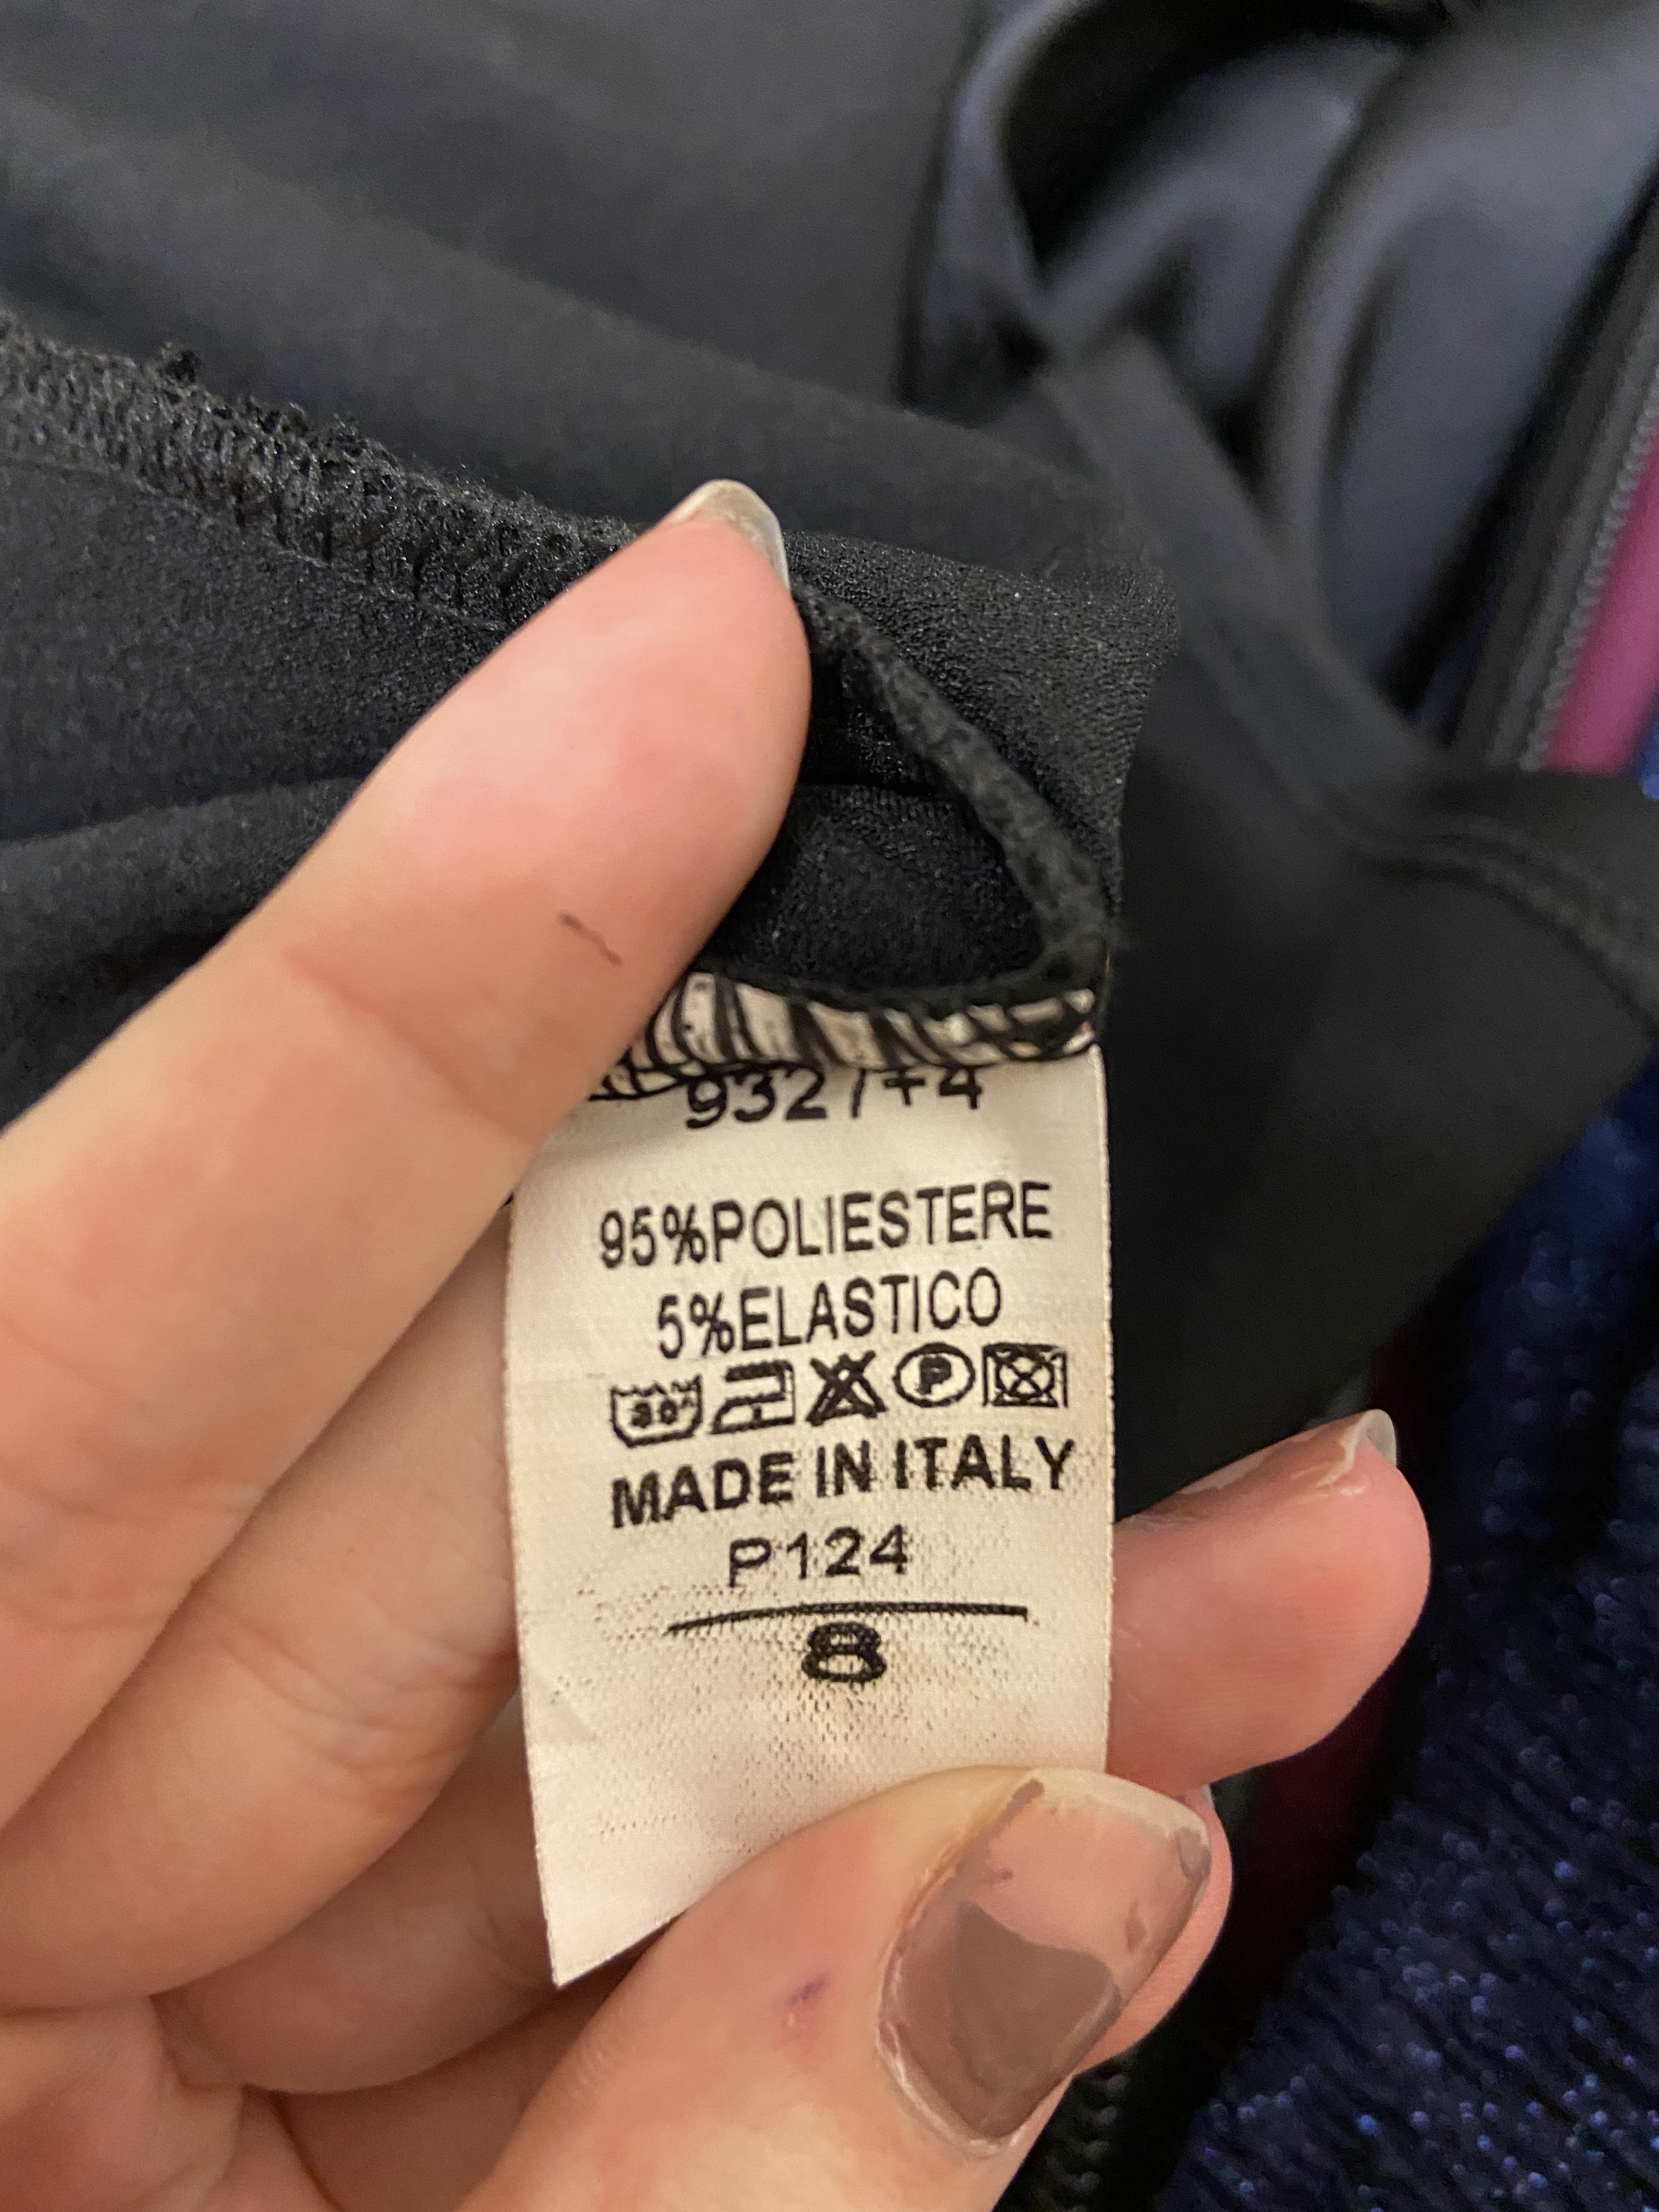do not bleach: (791, 1353, 906, 1437)
do not tumble dry: (972, 1345, 1087, 1418)
dry clean: (877, 1338, 983, 1426)
iron low temp: (704, 1364, 816, 1437)
wash at or below 30: (582, 1367, 714, 1444)
